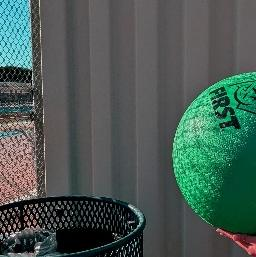algae: (176, 68, 256, 232)
